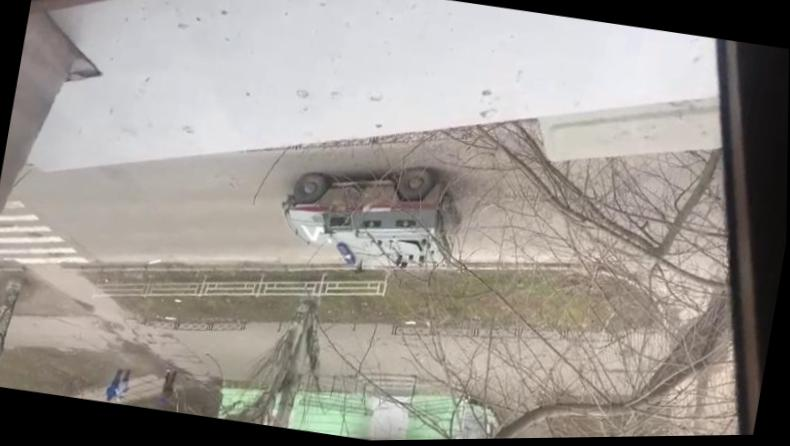armored_car: (272, 146, 470, 282)
person: (157, 366, 179, 405), (112, 367, 133, 403), (104, 368, 123, 403)
